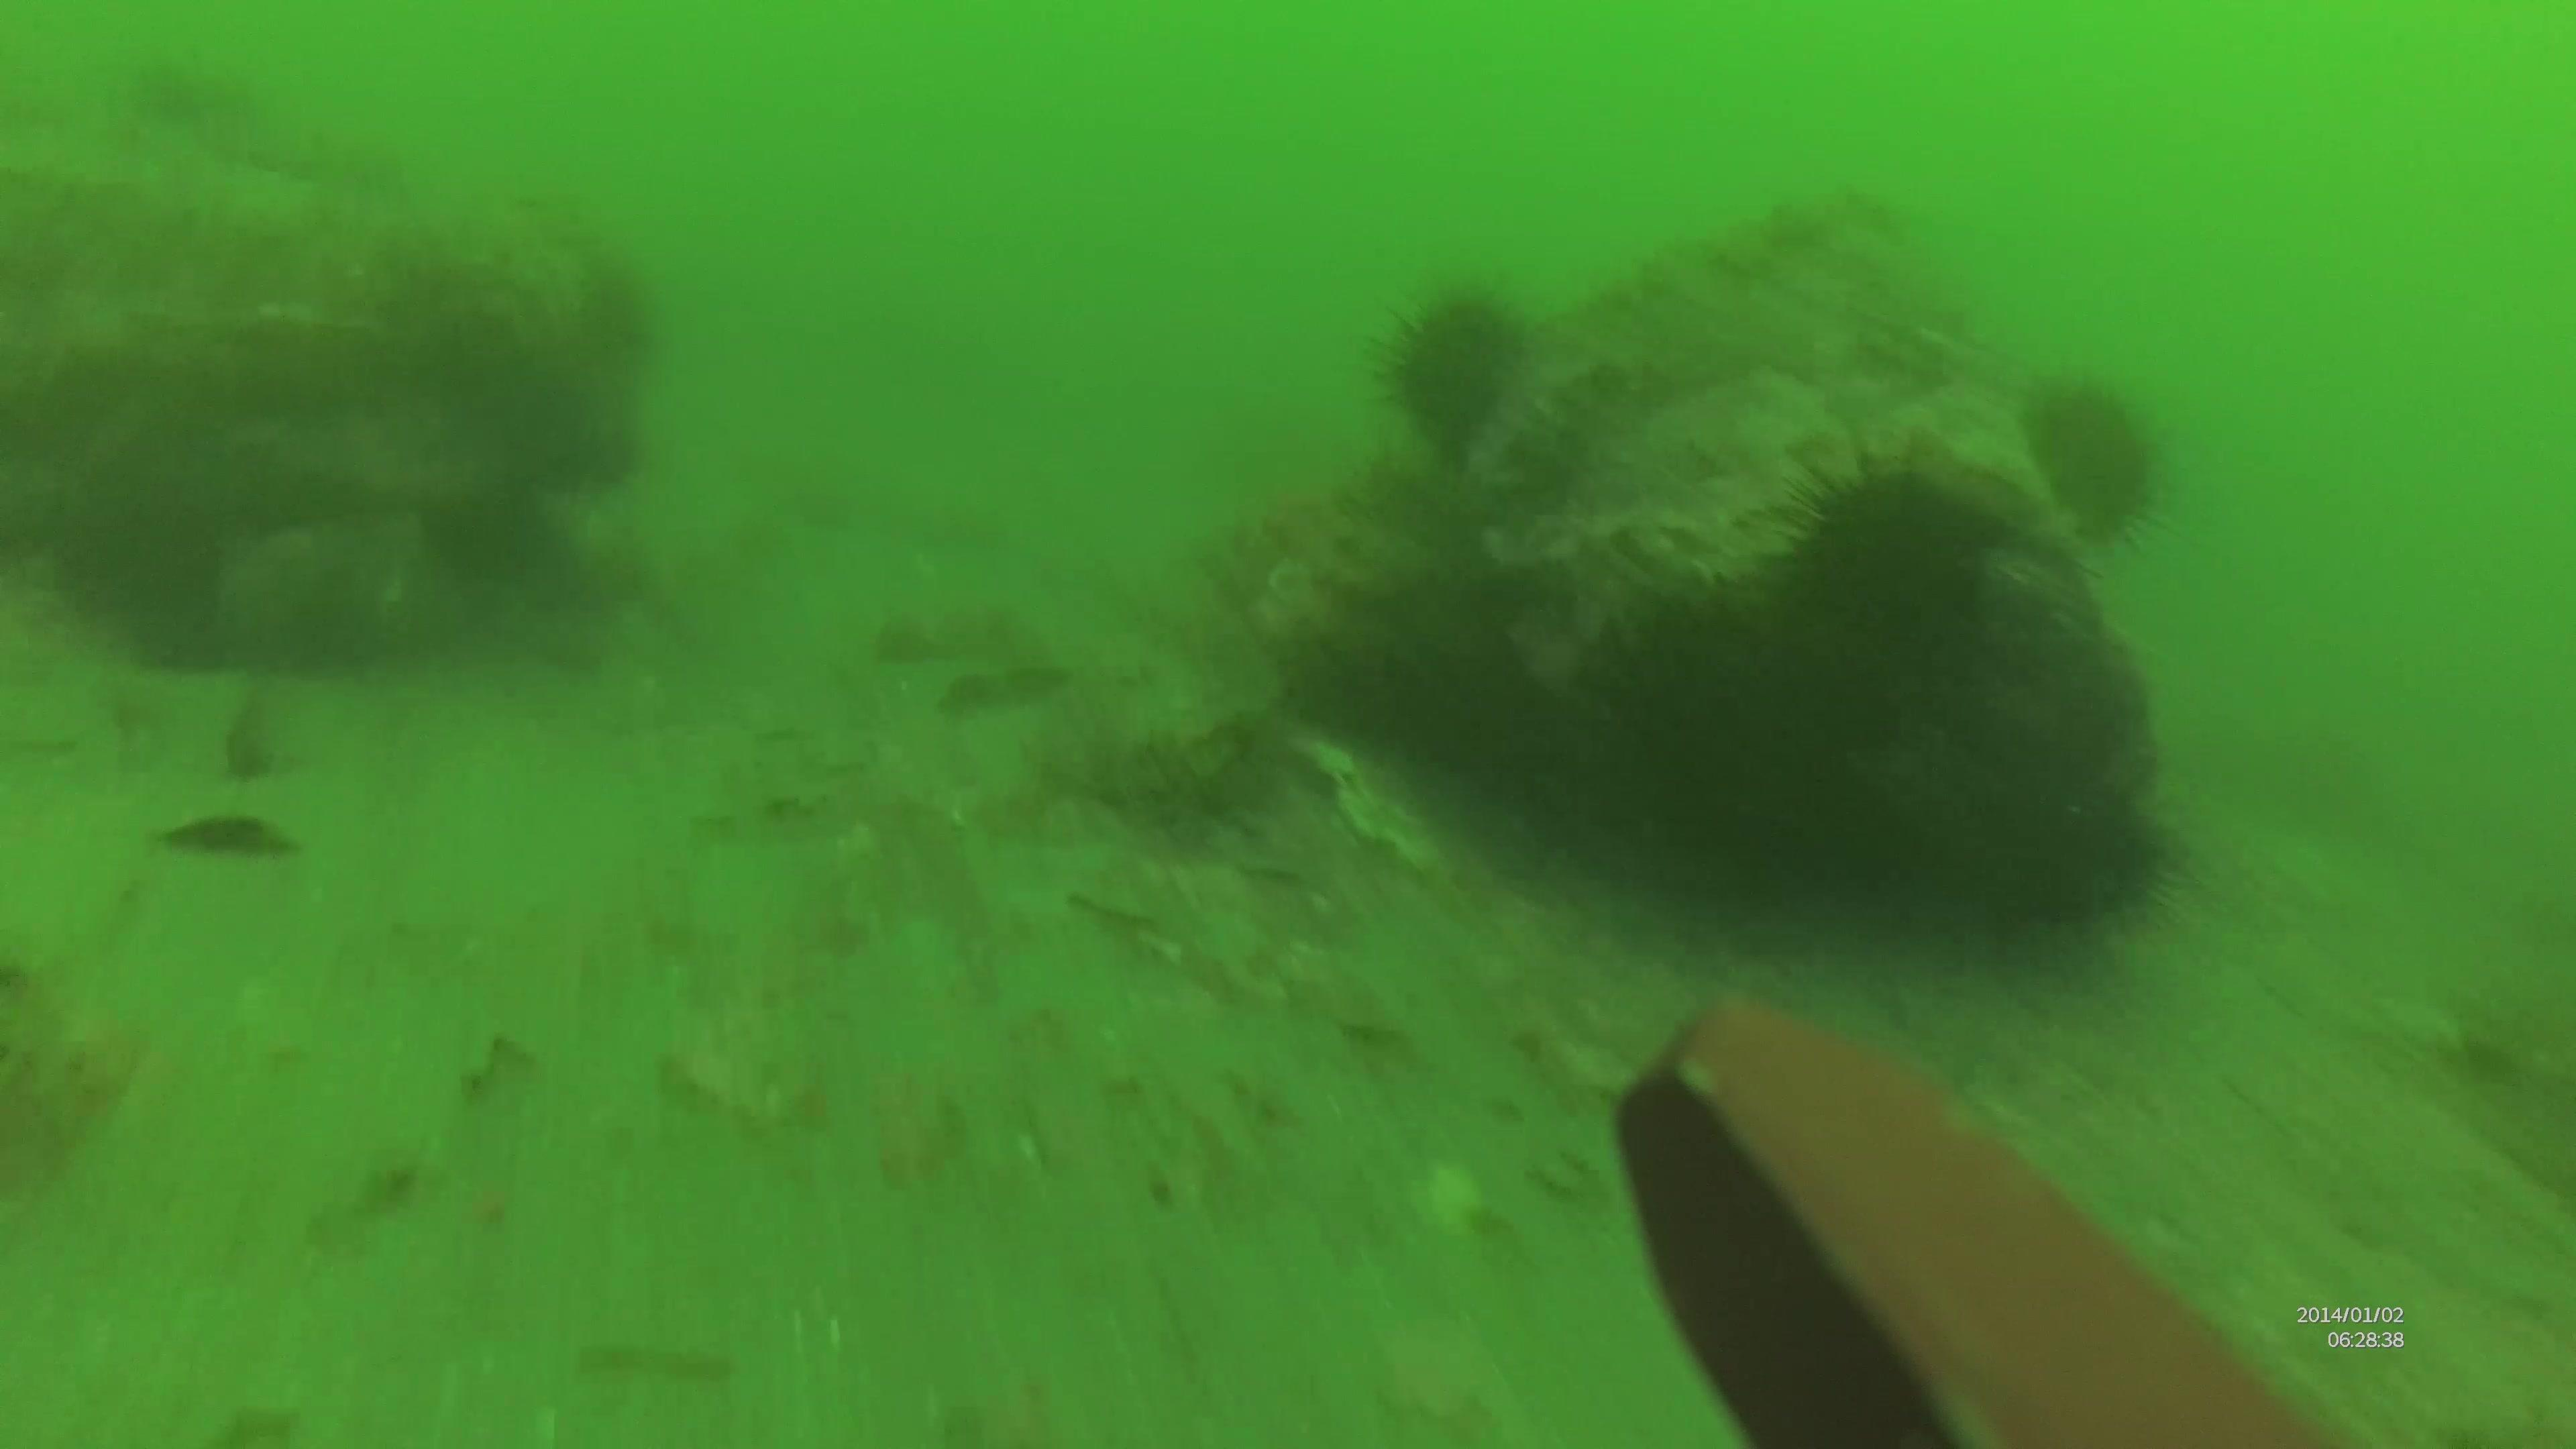echinus: (1780, 432, 2013, 667), (2024, 773, 2201, 941), (2022, 373, 2173, 554), (1373, 283, 1532, 444)
